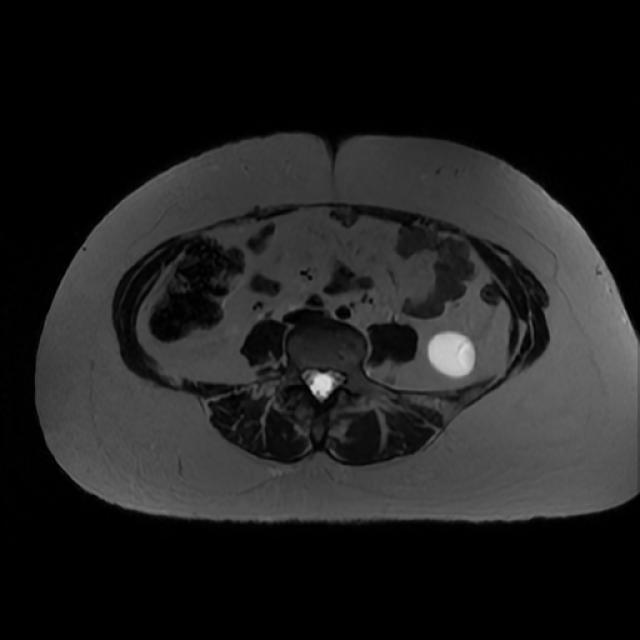sol: (430, 333, 476, 377)
